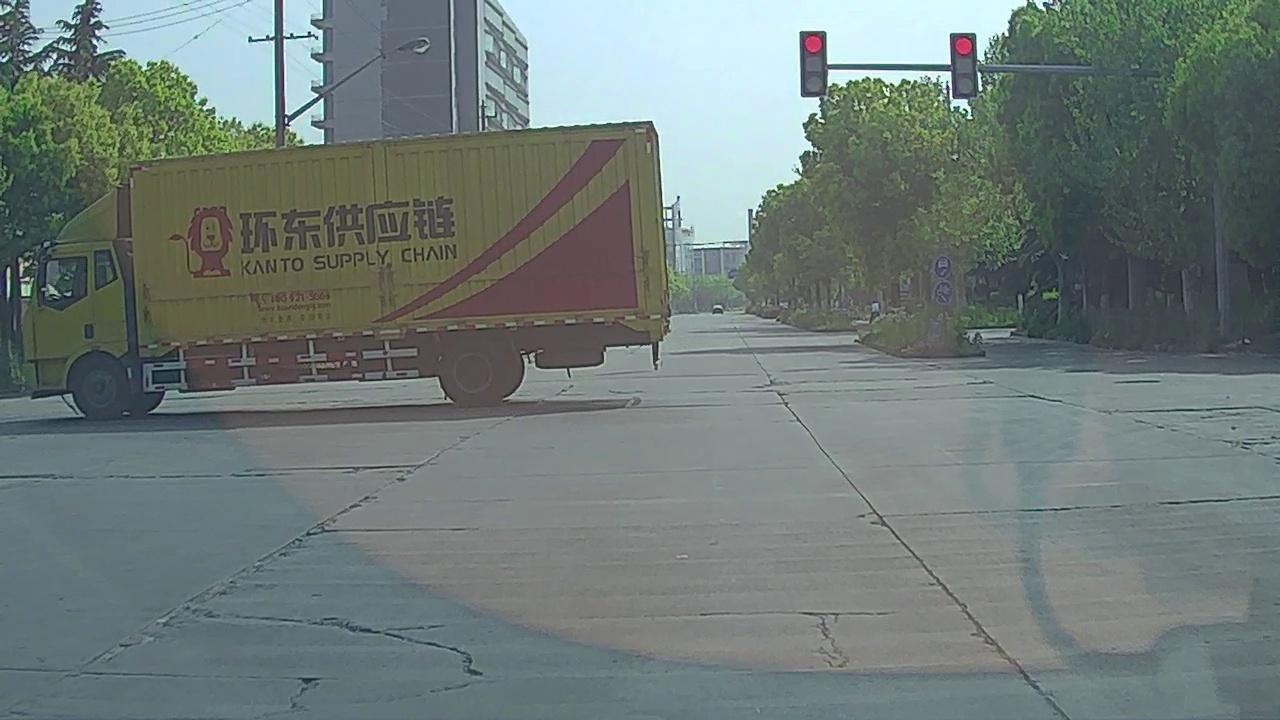traffic_light: (950, 34, 976, 97), (801, 33, 824, 95)
